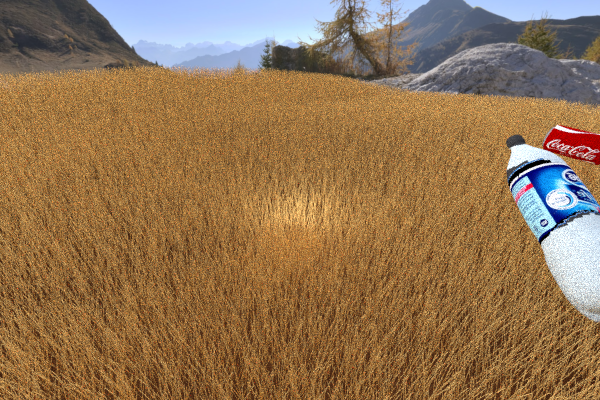Plastic Bottle: (506, 134, 600, 325), (542, 124, 600, 165)
